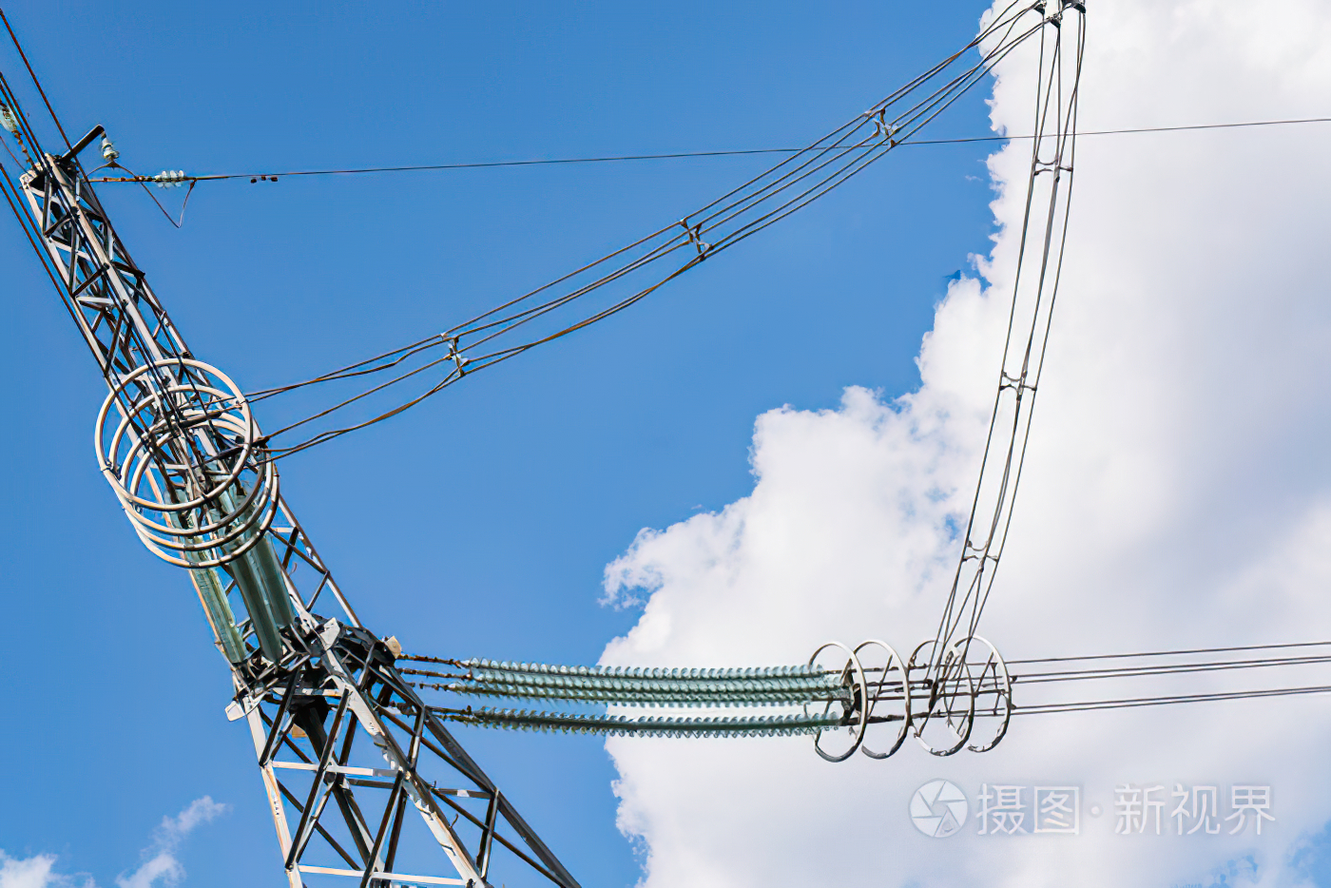insulator: (450, 656, 849, 737)
